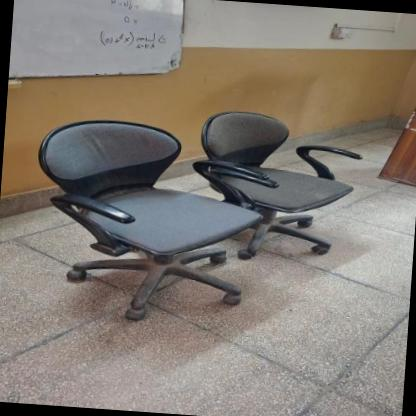chair: (30, 111, 251, 326), (190, 102, 370, 267)
